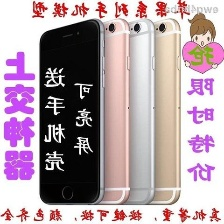phone: (64, 14, 135, 207), (38, 16, 108, 207), (90, 15, 159, 205), (124, 15, 185, 205)
